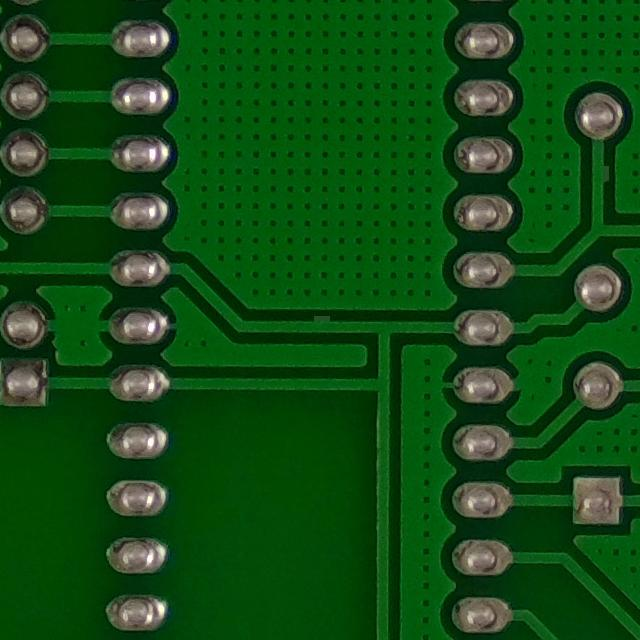spur: (300, 305, 341, 335)
